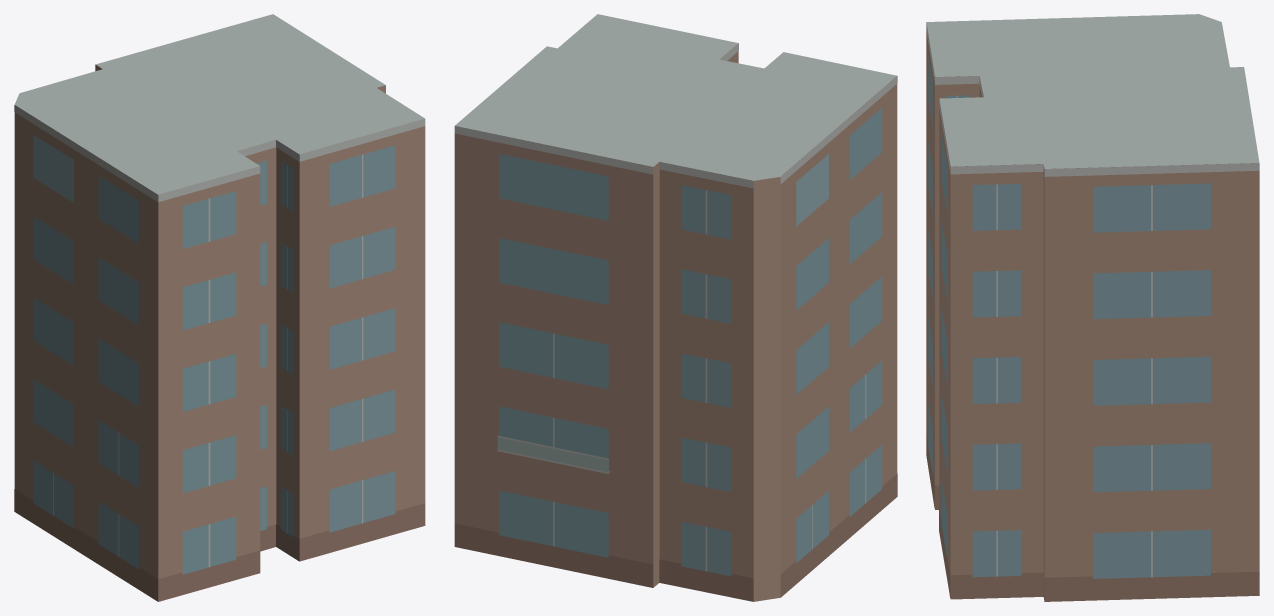
File: survey-upis-33004621.glb
The picture shows the model from 3 angles, left to right: view 1: azimuth 30°, elevation 25°; view 2: azimuth 150°, elevation 25°; view 3: azimuth 270°, elevation 25°; orthographic projection. The views are drawn at different scales.
Visible parts, largest first — view 1: survey-upis-33004621.tmp; view 2: survey-upis-33004621.tmp; view 3: survey-upis-33004621.tmp.
Part boxes in pixels (x1,y1,x2,y2): survey-upis-33004621.tmp: [14, 14, 425, 601]; survey-upis-33004621.tmp: [454, 14, 897, 601]; survey-upis-33004621.tmp: [926, 14, 1259, 601].
Bounding box in the file's own units: 10.3 × 13.4 × 9.36.
